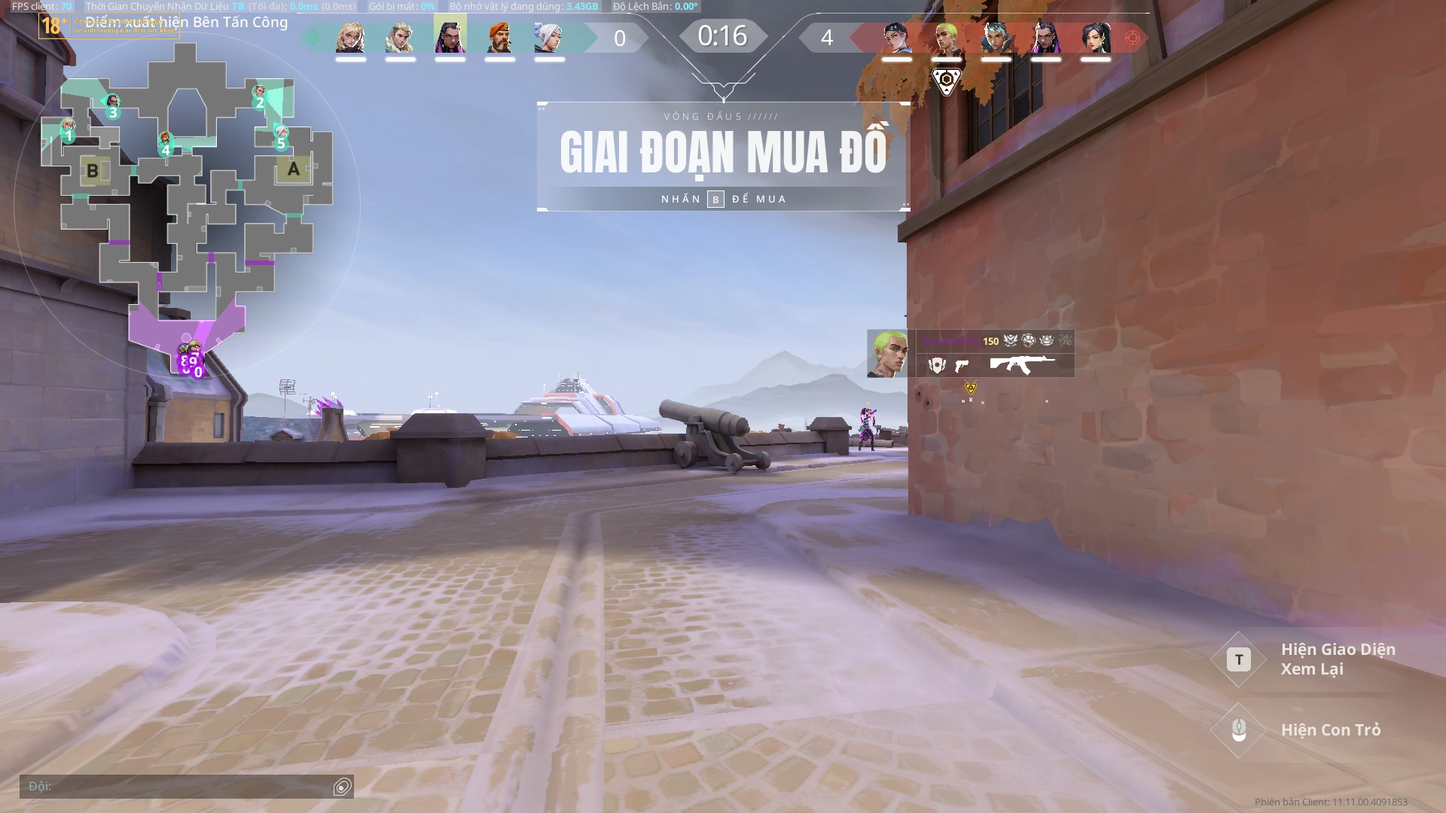body: (861, 413, 871, 427)
head: (865, 407, 873, 416)
